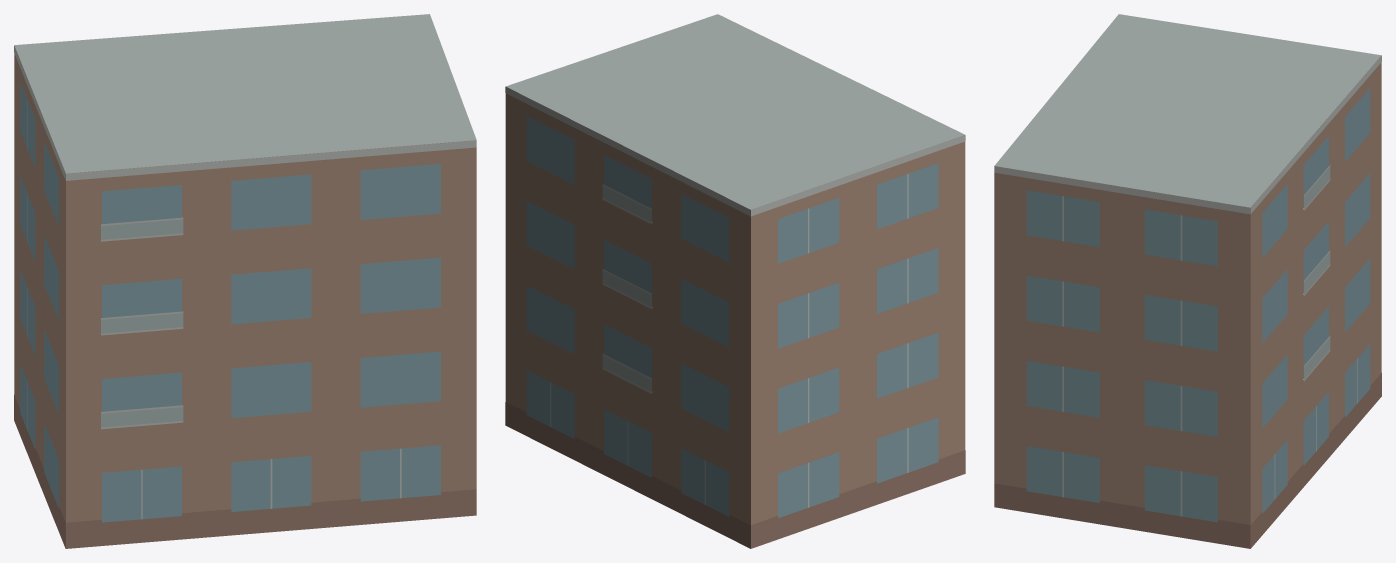
File: survey-upis-32677684.glb
3 views of the same model, side by side, from view 1: azimuth 30°, elevation 25°; view 2: azimuth 150°, elevation 25°; view 3: azimuth 270°, elevation 25° (orthographic). The views are drawn at different scales.
Parts seen in each view (by area): view 1: survey-upis-32677684.tmp; view 2: survey-upis-32677684.tmp; view 3: survey-upis-32677684.tmp.
Part boxes in pixels (x1,y1,x2,y2): survey-upis-32677684.tmp: (14,14,476,548); survey-upis-32677684.tmp: (505,14,965,548); survey-upis-32677684.tmp: (994,14,1381,548).
Size of the model in its own units: 15.23 by 12.5 by 12.87.
